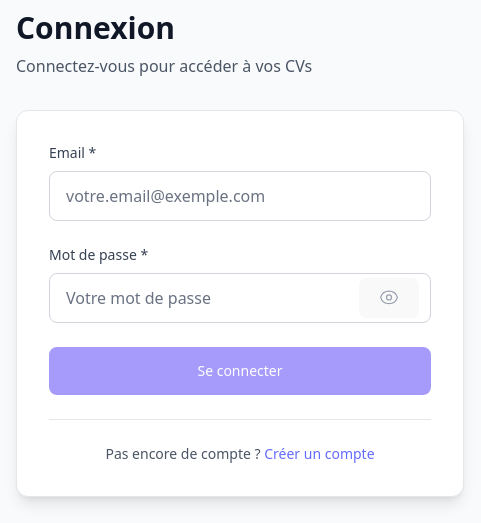
Test: Login Component › should validate required fields
Check: the button "Se connecter" is disabled, box [49,346,431,394]
Note: Remplir seulement l'email
Type "test@example.com" into the field with placeholder "votre.email@exemple.com" at (240, 196), box [49,170,431,220]
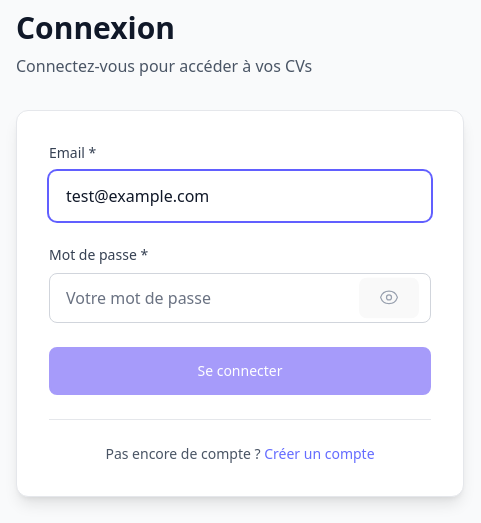
Check: the button "Se connecter" is disabled, box [49,346,431,394]
Note: Remplir le mot de passe
Type "password123" into the password field with placeholder "Votre mot de passe" at (240, 298), box [49,272,431,322]
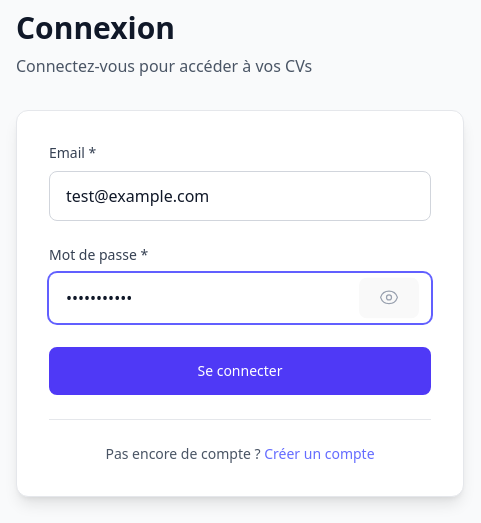
Check: the button "Se connecter" is enabled, box [49,346,431,394]
